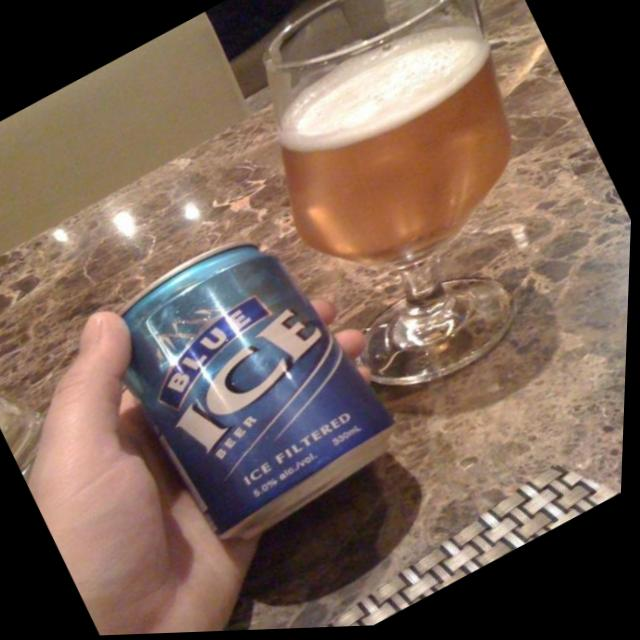metal: (124, 244, 390, 538)
